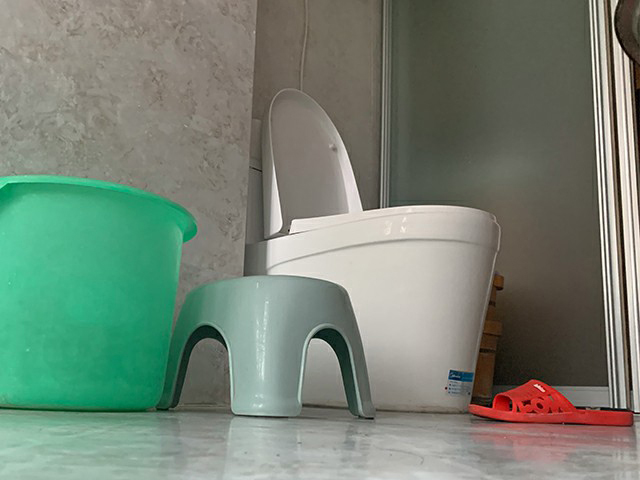closestool: (243, 86, 501, 414)
slippers: (467, 378, 634, 427)
stool: (156, 275, 377, 419)
